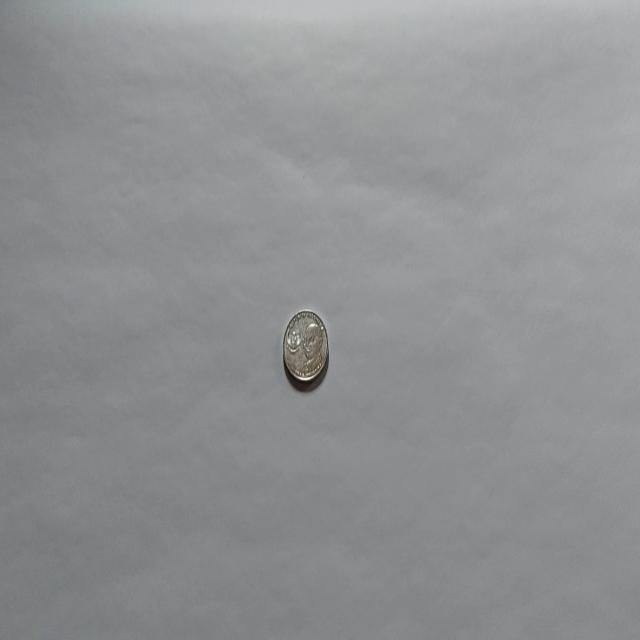lima ratus rupiah: (282, 308, 328, 384)
